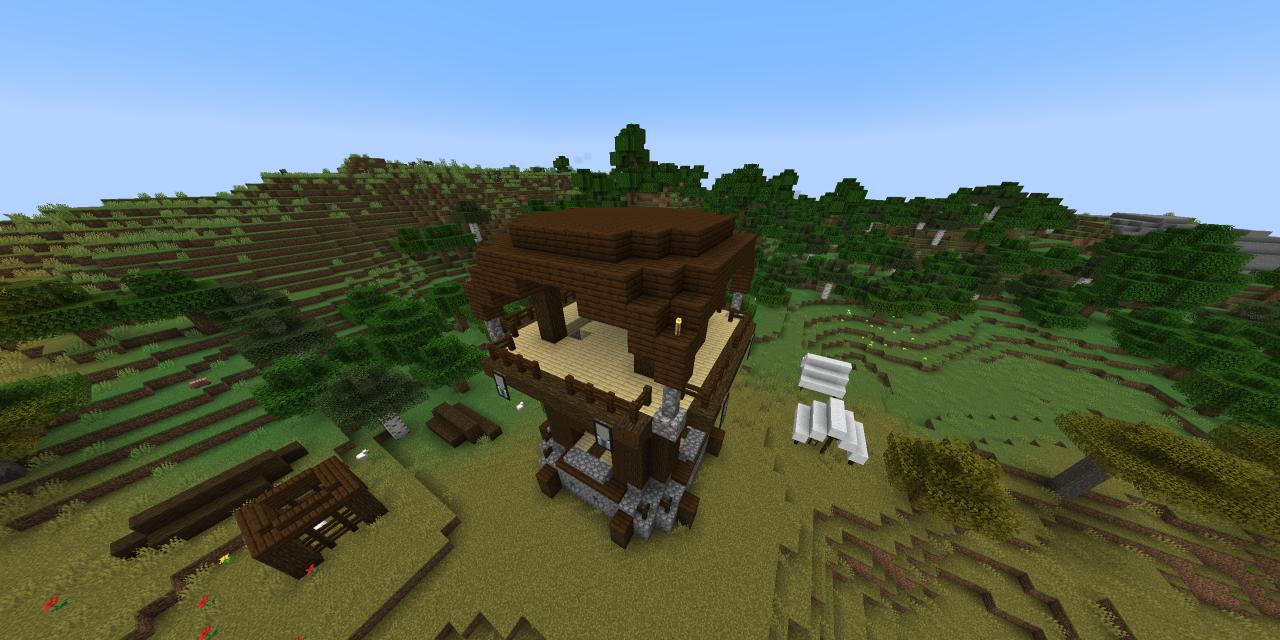pillager outpost: (455, 192, 778, 564)
